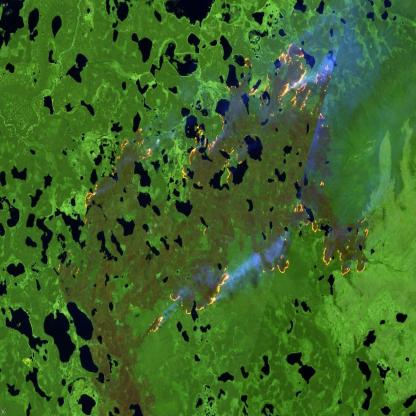fire: (148, 202, 372, 339), (172, 42, 333, 190), (112, 124, 156, 176), (77, 178, 105, 222)
